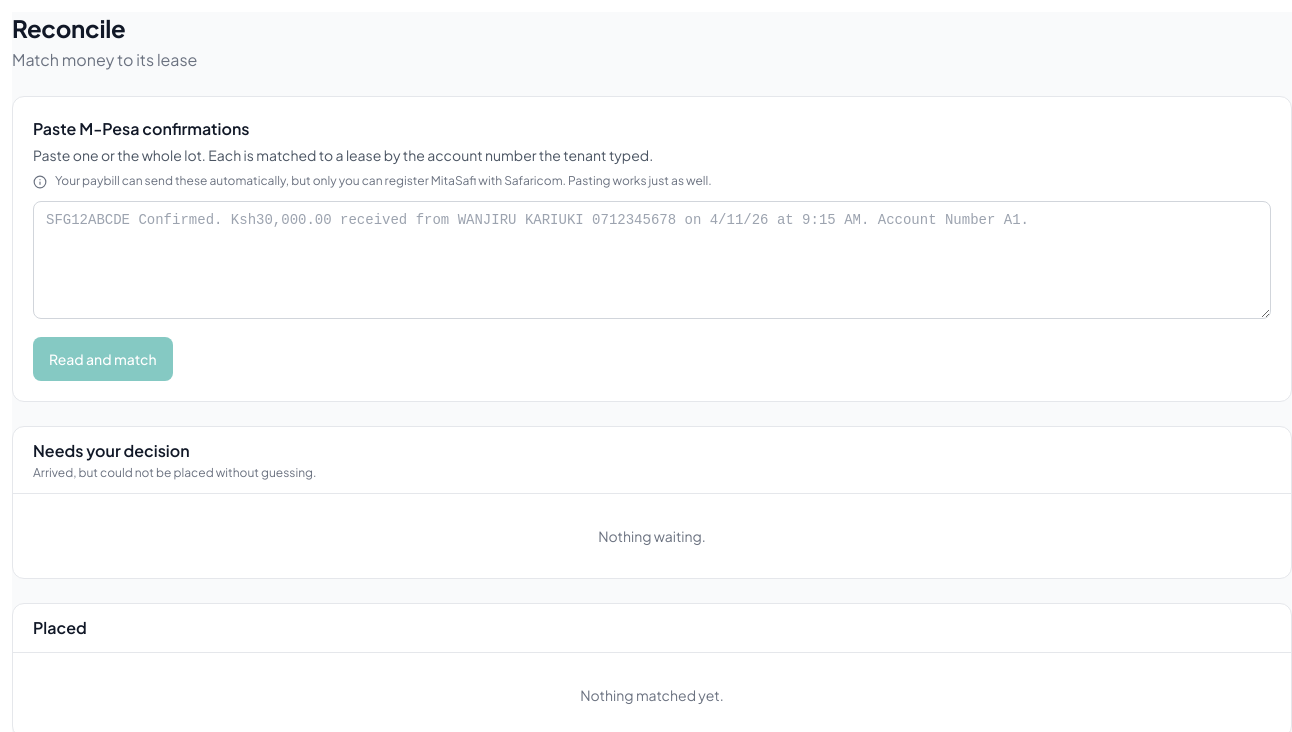
Test: ReconcileClient › the report after a paste › surfaces a refusal instead of a report
The width and height of the screenshot is (1292, 732).
Replace the text in the text box named "M-Pesa confirmation messages" with "nonsense": [652, 260] box [33,201,1271,319]
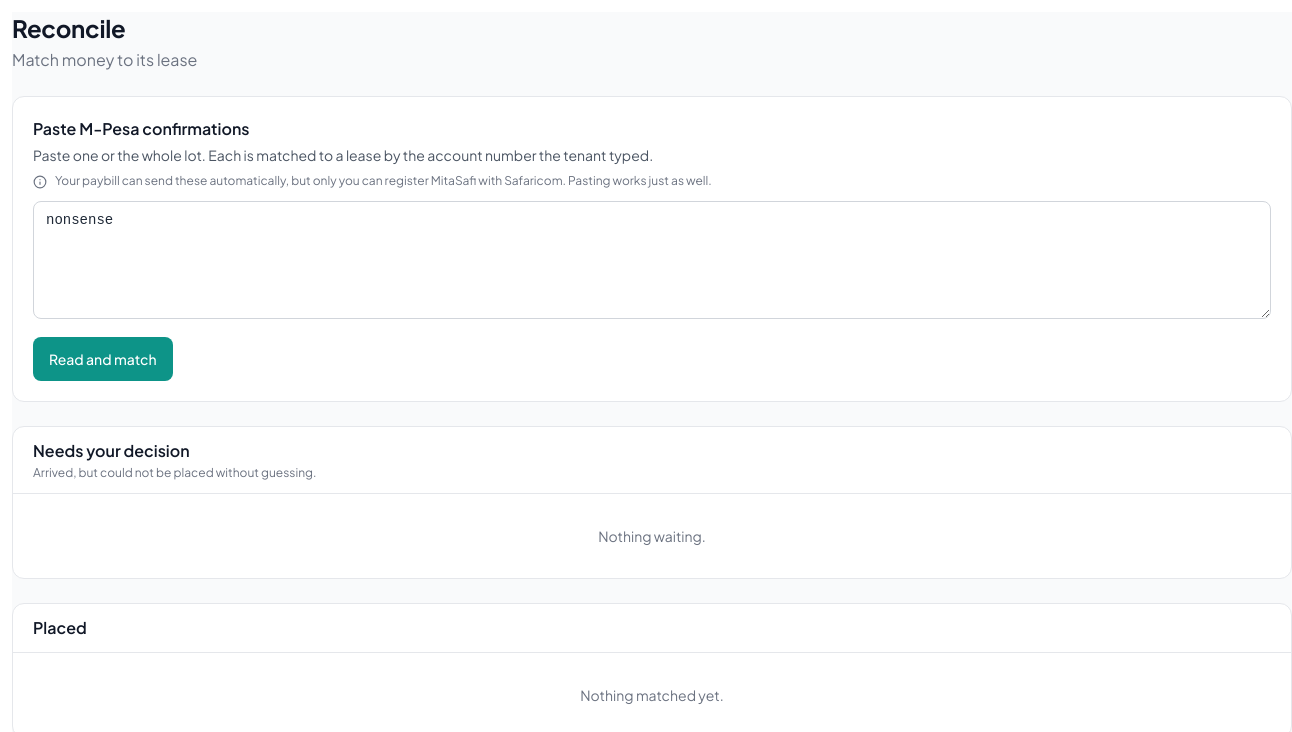
Click the button "Read and match": [103, 359] box [33,337,172,381]
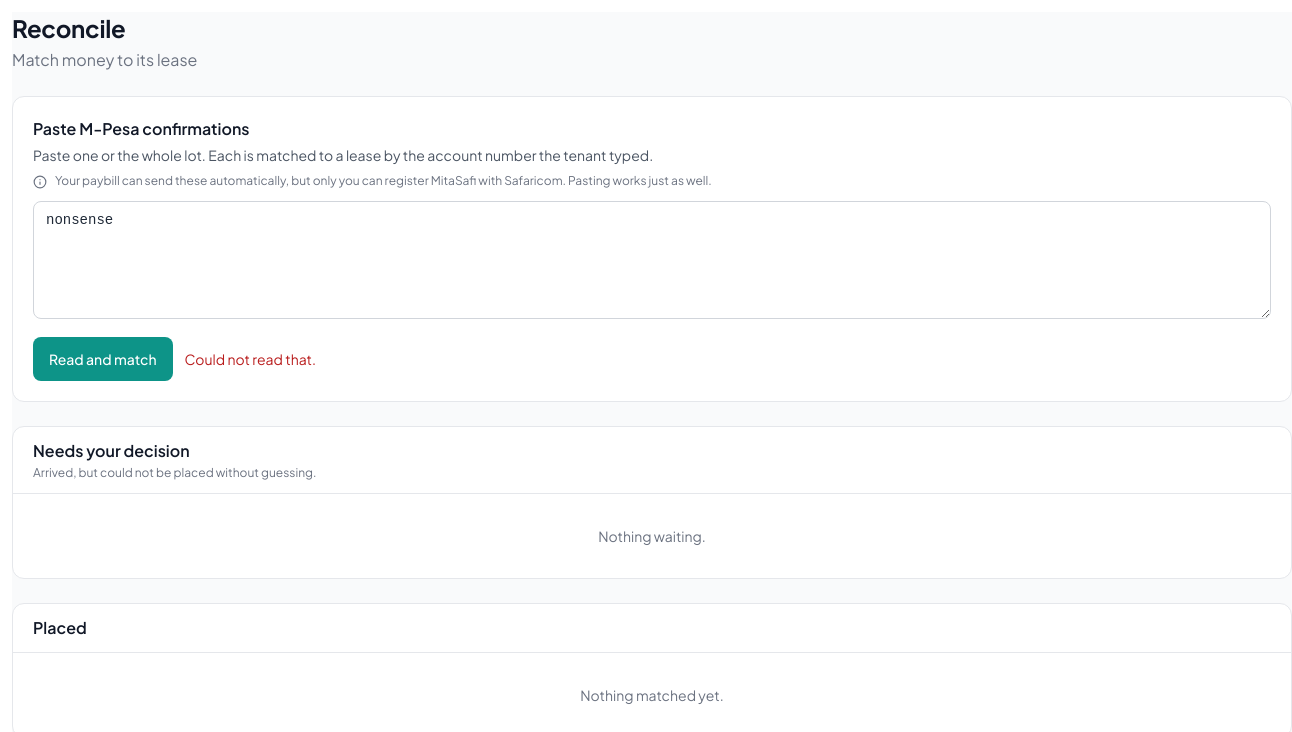
Expected: the message reads "Could not read that.", [184,350,316,368]
